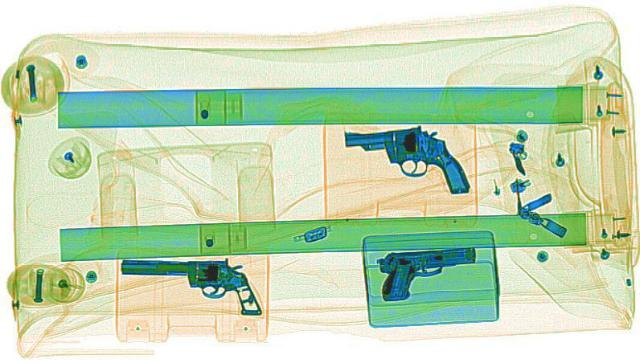Gun: (338, 123, 469, 200), (116, 255, 266, 313), (367, 245, 485, 300)
